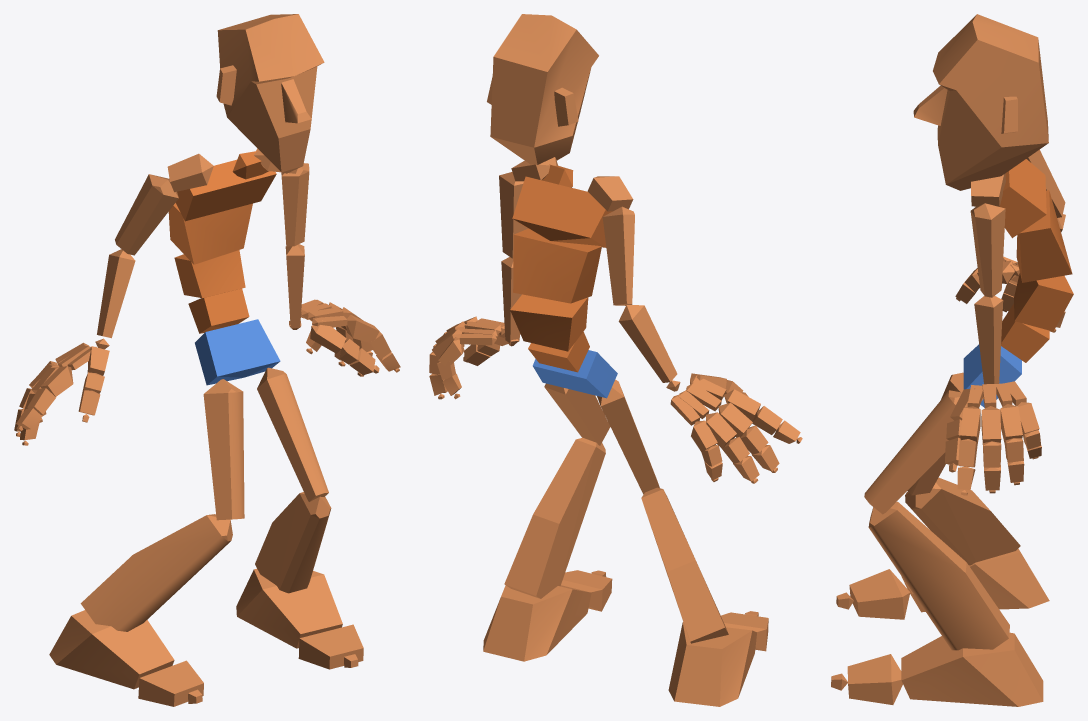
File: personaje30.obj
The picture shows the model from 3 angles, left to right: view 1: azimuth 30°, elevation 25°; view 2: azimuth 150°, elevation 25°; view 3: azimuth 270°, elevation 25°; orthographic projection. The views are drawn at different scales.
Visible parts, largest first — view 1: BOPED_Head, BOPED_R_leg, BOPED_R_foot, BOPED_R_foot01, BOPED_L_leg, BOPED_R_legup, BOPED_L_legup, Bone01, Bone04, Bone05, BOPED_R_arm_upper, Bone03 (+11 smaller); view 2: BOPED_Head, BOPED_L_leg, BOPED_R_foot01, BOPED_R_foot, BOPED_R_leg, Bone04, Bone05, Bone03, BOPED_R_arm_upper, BOPED_R_legup, Bone01, BOPED_R_arm_fore (+11 smaller); view 3: BOPED_Head, BOPED_L_leg, BOPED_R_foot01, BOPED_R_leg, BOPED_L_legup, BOPED_R_foot, Bone04, Bone05, BOPED_L_arm_upper, Bone03, BOPED_R_foot_toe01, BOPED_R_foot_toe04 (+14 smaller).
Boxes of the visible parts, x1,y1,x2,y2 form: BOPED_Head: [216, 14, 324, 173]; BOPED_R_leg: [80, 514, 232, 631]; BOPED_R_foot: [49, 610, 174, 689]; BOPED_R_foot01: [236, 568, 342, 648]; BOPED_L_leg: [255, 492, 331, 593]; BOPED_R_legup: [203, 379, 244, 520]; BOPED_L_legup: [257, 367, 328, 501]; Bone01: [195, 319, 280, 385]; Bone04: [168, 203, 252, 264]; Bone05: [175, 159, 276, 221]; BOPED_R_arm_upper: [115, 174, 178, 255]; Bone03: [174, 250, 245, 298]; BOPED_Head: [487, 14, 598, 164]; BOPED_L_leg: [504, 437, 605, 598]; BOPED_R_foot01: [483, 585, 591, 661]; BOPED_R_foot: [668, 622, 756, 706]; BOPED_R_leg: [641, 487, 728, 643]; Bone04: [513, 229, 601, 303]; Bone05: [512, 176, 612, 247]; Bone03: [510, 294, 588, 351]; BOPED_R_arm_upper: [602, 206, 634, 305]; BOPED_R_legup: [597, 379, 659, 494]; Bone01: [532, 350, 617, 398]; BOPED_R_arm_fore: [618, 305, 677, 382]; BOPED_Head: [913, 14, 1048, 190]; BOPED_L_leg: [868, 501, 1009, 650]; BOPED_R_foot01: [901, 632, 1043, 706]; BOPED_R_leg: [905, 477, 1020, 565]; BOPED_L_legup: [864, 390, 961, 514]; BOPED_R_foot: [901, 548, 1049, 612]; Bone04: [1016, 190, 1072, 282]; Bone05: [999, 159, 1046, 238]; BOPED_L_arm_upper: [970, 203, 1005, 297]; Bone03: [1014, 273, 1073, 331]; BOPED_R_foot_toe01: [849, 569, 910, 619]; BOPED_R_foot_toe04: [847, 654, 902, 704].
Bounding box in the file's own units: 108 × 170 × 56.5.
